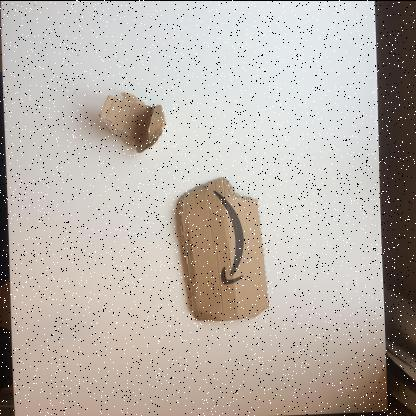cardboard: (172, 177, 270, 322), (96, 92, 168, 154)
